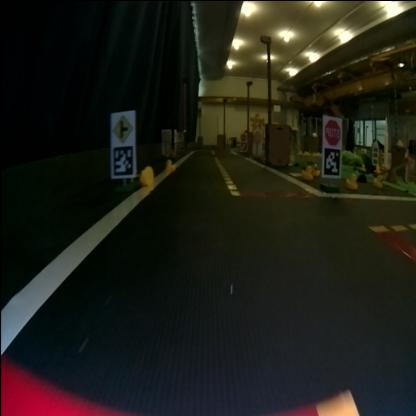Duckie: (141, 165, 153, 184), (347, 172, 356, 188), (164, 158, 174, 172), (302, 164, 312, 178), (374, 174, 382, 186), (314, 163, 320, 175), (360, 162, 365, 170), (376, 164, 380, 171)
Intersection sign: (110, 110, 134, 141)
QR code: (110, 144, 136, 178), (322, 147, 342, 175)
Stop sign: (322, 115, 342, 142)
